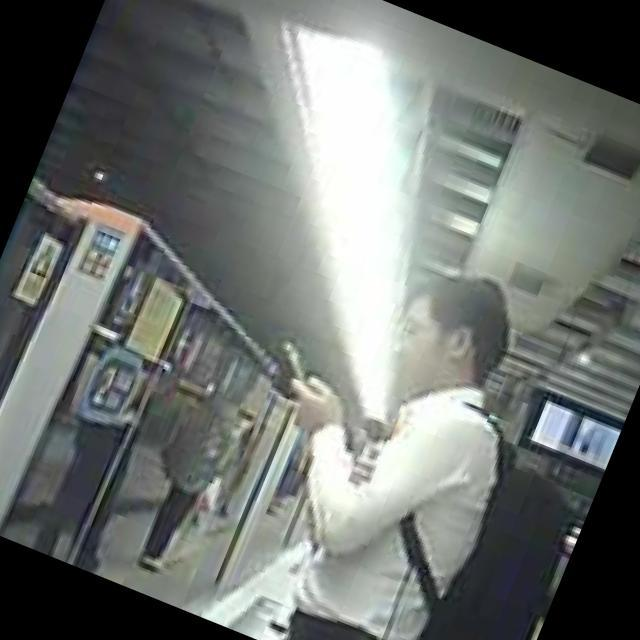person: (201, 226, 579, 640), (118, 378, 253, 586)
